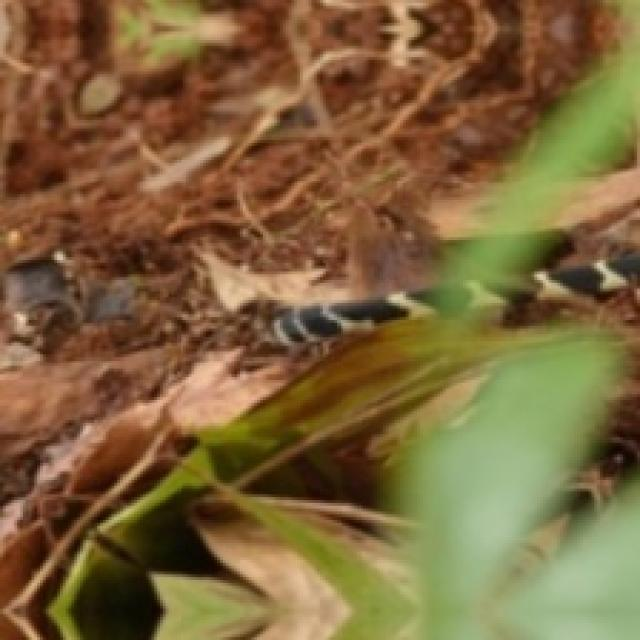king cobra: (466, 251, 637, 326), (263, 291, 434, 349)
